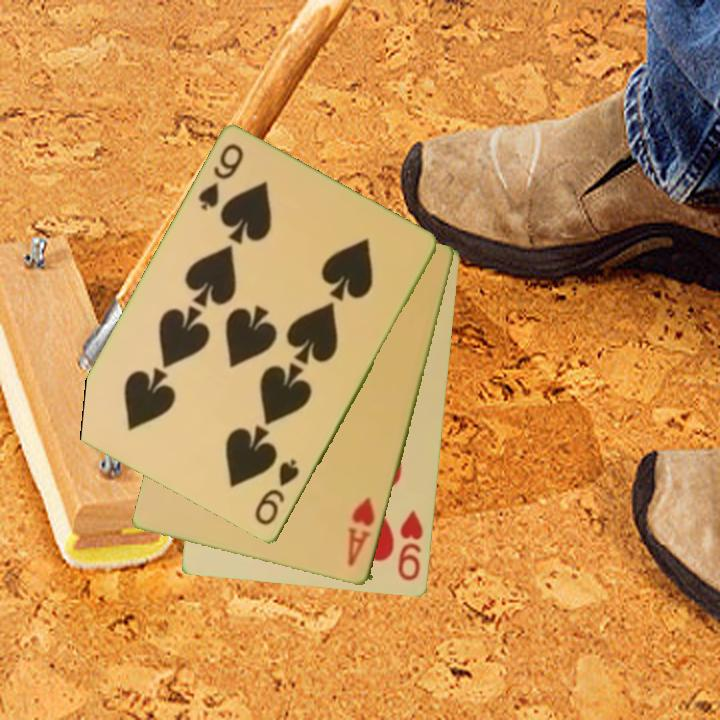9h: (395, 508, 426, 584)
9s: (194, 140, 247, 214), (251, 456, 303, 529)
Ah: (344, 494, 379, 571)
